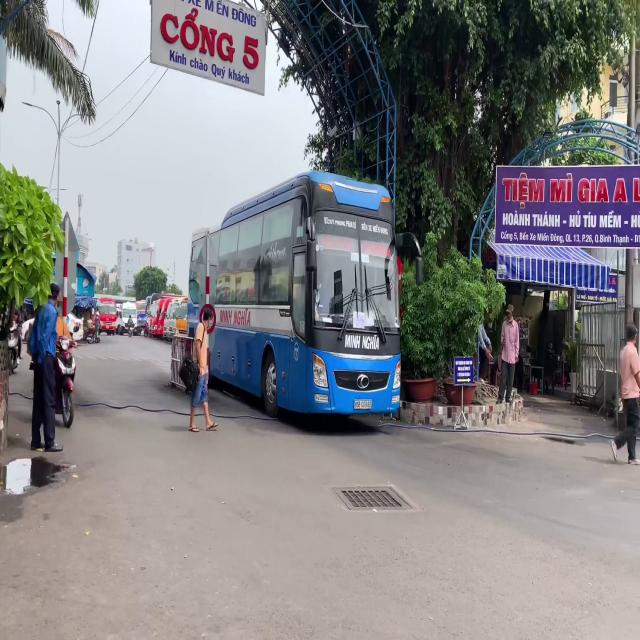bien_trang: (352, 395, 374, 412)
